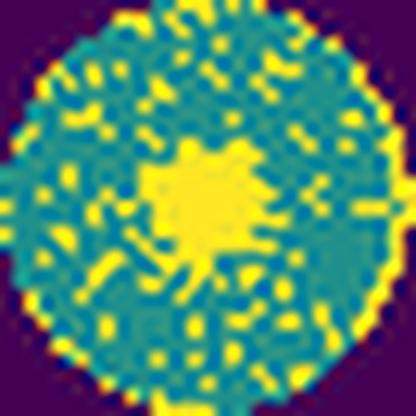Center: (140, 145, 267, 256)
